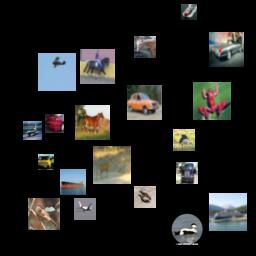airplane: (38, 53, 76, 91), (74, 198, 96, 220), (23, 121, 42, 140)
automobile: (127, 85, 162, 120), (209, 32, 244, 67), (45, 114, 64, 133)
bird: (28, 198, 60, 230), (171, 213, 203, 245), (134, 186, 156, 208), (173, 129, 195, 151)
deer: (93, 146, 131, 184)
frog: (193, 82, 231, 120)
ship: (209, 193, 247, 231), (60, 169, 86, 195), (181, 4, 197, 20)
truck: (176, 162, 198, 184), (38, 154, 54, 170)
